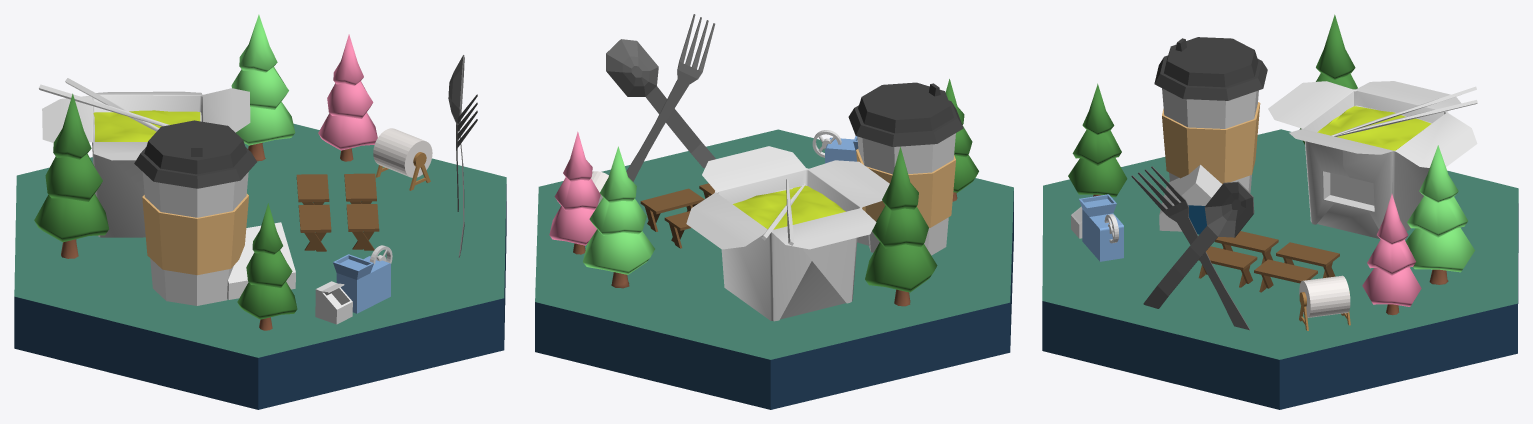
File: Macro - Restaurant lvl 2 WM3.fbx
3 renders of one model, left to right at view 1: azimuth 30°, elevation 25°; view 2: azimuth 150°, elevation 25°; view 3: azimuth 270°, elevation 25°, orthographic. The views are drawn at different scales.
Visible parts, largest first — view 1: Cylinder.176, coffee_001.002, Cube.108, Tree_Spruce_tiny_01.001, Tree_Spruce_tiny_01.004, Tree_Spruce_tiny_01.002, Tree_Spruce_tiny_01.003, Cube.004, Cylinder.011, Cube.003, Cube.005, table.003 (+5 smaller); view 2: Cylinder.176, Cube.108, coffee_001.002, Tree_Spruce_tiny_01.001, Tree_Spruce_tiny_01.004, Plane.116, Tree_Spruce_tiny_01.003, Plane.117, Tree_Spruce_tiny_01.002, table.001, Cube.004, table; view 3: Cylinder.176, Cube.108, coffee_001.002, Tree_Spruce_tiny_01.004, Tree_Spruce_tiny_01.003, Tree_Spruce_tiny_01.002, Plane.116, Plane.117, Cube.004, Cylinder.011, Cube.003, Tree_Spruce_tiny_01.001 (+4 smaller).
Boxes of the visible parts, left/top/right/bottom form: Cylinder.176: left=14, top=123, right=506, bottom=409; coffee_001.002: left=134, top=120, right=256, bottom=305; Cube.108: left=39, top=78, right=250, bottom=237; Tree_Spruce_tiny_01.001: left=34, top=93, right=108, bottom=258; Tree_Spruce_tiny_01.004: left=231, top=14, right=295, bottom=161; Tree_Spruce_tiny_01.002: left=237, top=203, right=297, bottom=330; Tree_Spruce_tiny_01.003: left=318, top=34, right=377, bottom=161; Cube.004: left=333, top=254, right=390, bottom=313; Cylinder.011: left=373, top=128, right=432, bottom=177; Cube.003: left=227, top=222, right=295, bottom=299; Cube.005: left=315, top=281, right=352, bottom=324; table.003: left=298, top=204, right=331, bottom=251; Cylinder.176: left=535, top=129, right=1013, bottom=409; Cube.108: left=686, top=146, right=889, bottom=321; coffee_001.002: left=848, top=82, right=963, bottom=255; Tree_Spruce_tiny_01.001: left=865, top=146, right=937, bottom=306; Tree_Spruce_tiny_01.004: left=583, top=146, right=654, bottom=288; Plane.116: left=606, top=39, right=715, bottom=167; Tree_Spruce_tiny_01.003: left=549, top=131, right=600, bottom=254; Plane.117: left=626, top=14, right=715, bottom=181; Tree_Spruce_tiny_01.002: left=945, top=79, right=978, bottom=201; table.001: left=640, top=188, right=704, bottom=231; Cube.004: left=825, top=136, right=858, bottom=163; table: left=664, top=211, right=691, bottom=248; Cylinder.176: left=1042, top=129, right=1518, bottom=409; Cube.108: left=1268, top=81, right=1477, bottom=238; coffee_001.002: left=1154, top=37, right=1267, bottom=192; Tree_Spruce_tiny_01.004: left=1405, top=145, right=1474, bottom=284; Tree_Spruce_tiny_01.003: left=1362, top=194, right=1421, bottom=315; Tree_Spruce_tiny_01.002: left=1068, top=83, right=1127, bottom=197; Plane.116: left=1143, top=181, right=1254, bottom=308; Plane.117: left=1131, top=166, right=1249, bottom=330; Cube.004: left=1079, top=194, right=1123, bottom=261; Cylinder.011: left=1299, top=275, right=1350, bottom=317; Cube.003: left=1159, top=164, right=1222, bottom=231; Tree_Spruce_tiny_01.001: left=1299, top=14, right=1357, bottom=144.
Size of the model in its own units: 197 by 82.22 by 172.
